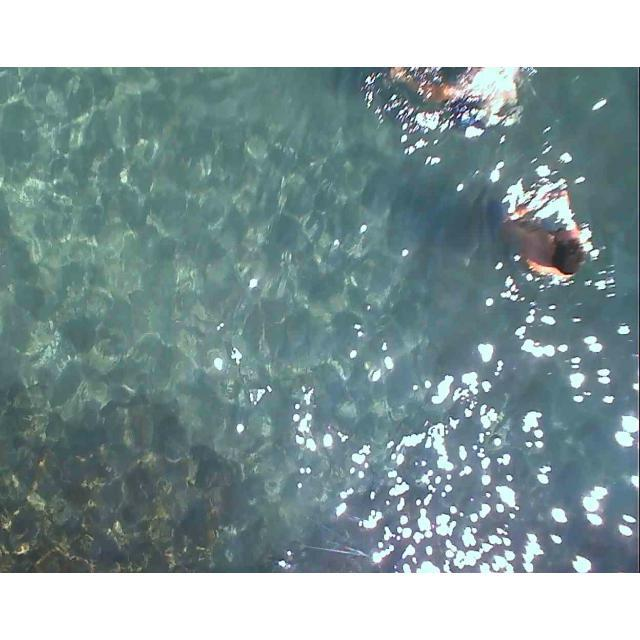human: (512, 171, 585, 282)
